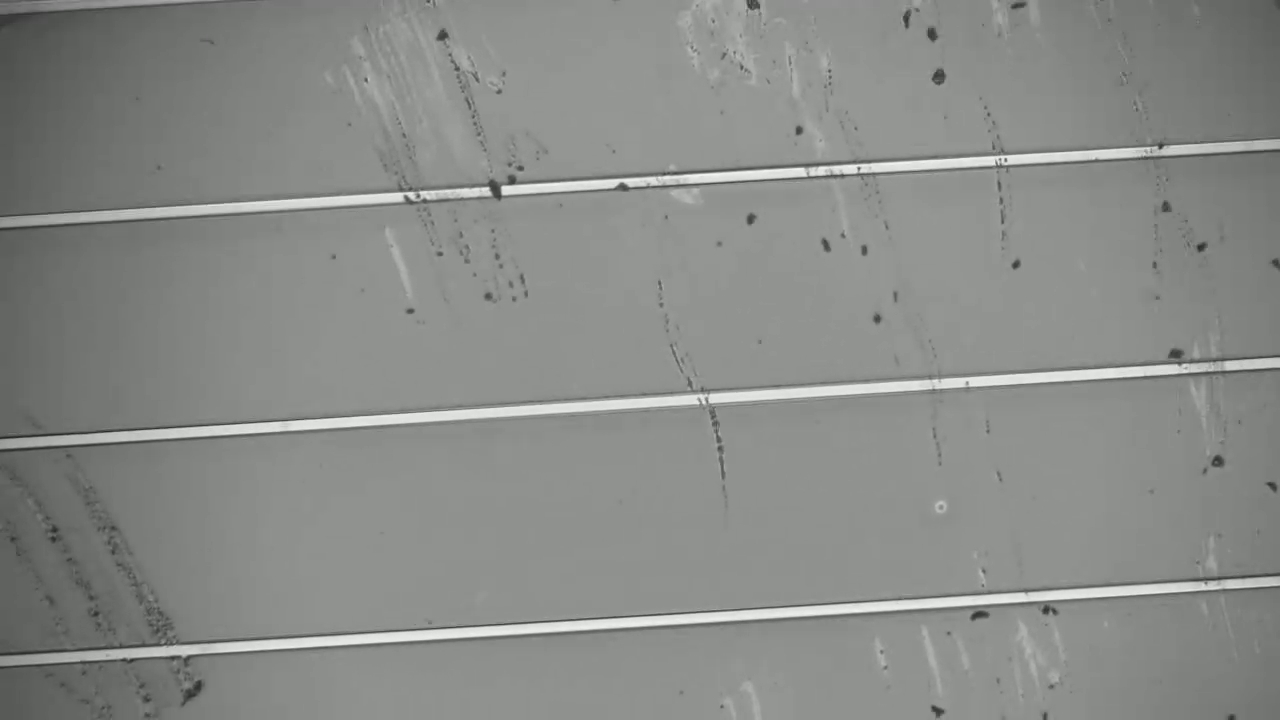scratch: (1, 350, 223, 720), (792, 51, 979, 463), (654, 277, 752, 539)
stains_enbedded: (602, 171, 640, 197), (480, 179, 509, 210)
